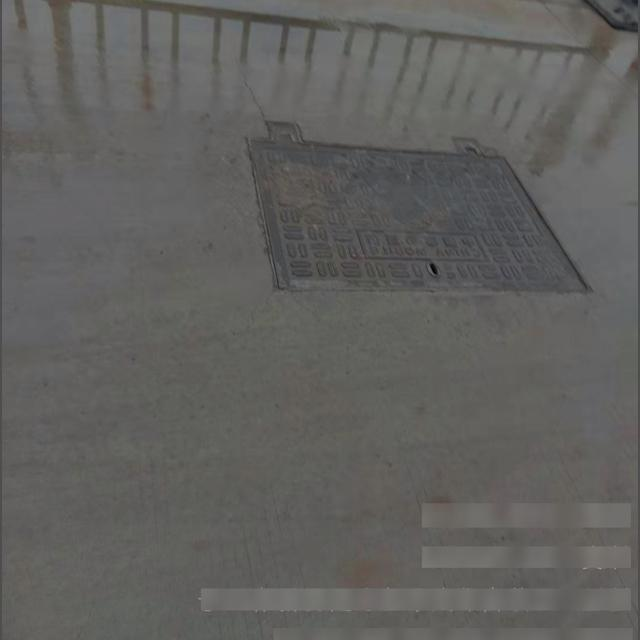good: (245, 123, 591, 294)
